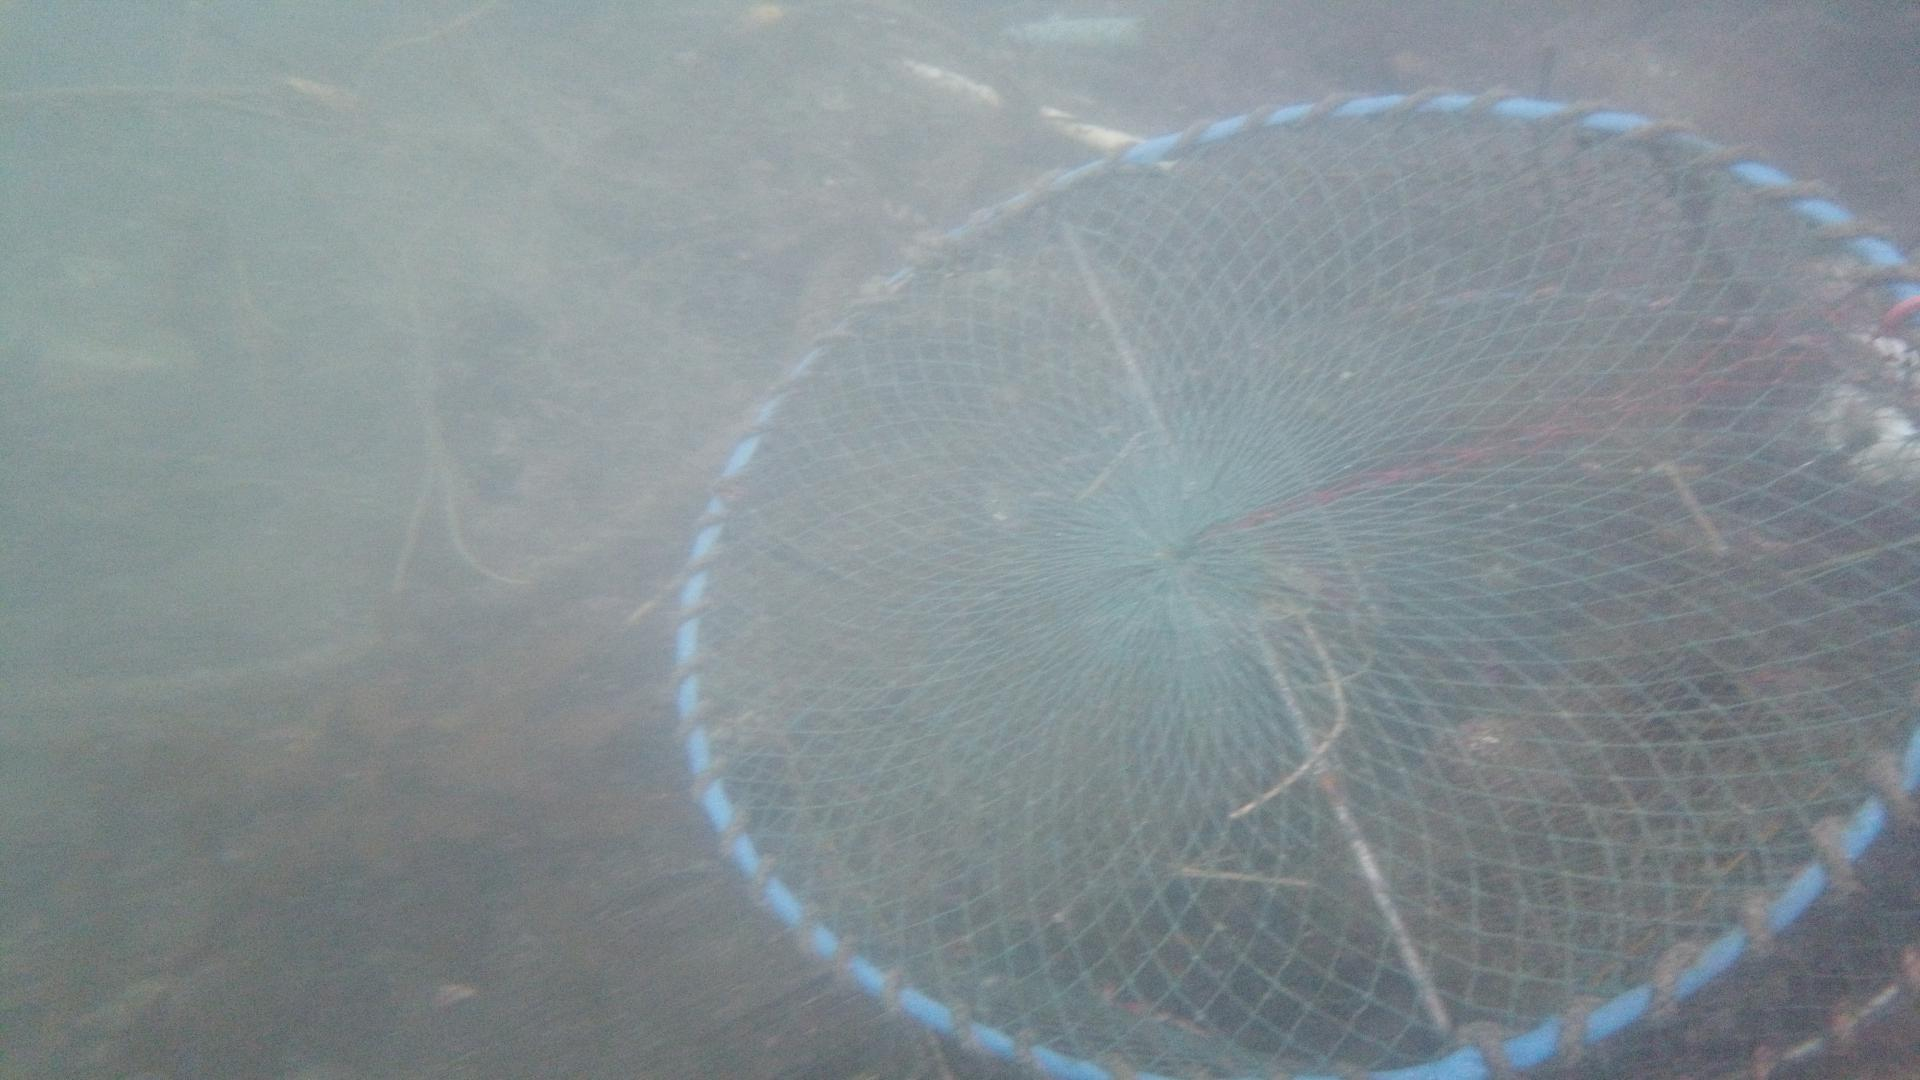circular fish trap: (653, 73, 1920, 1080)
